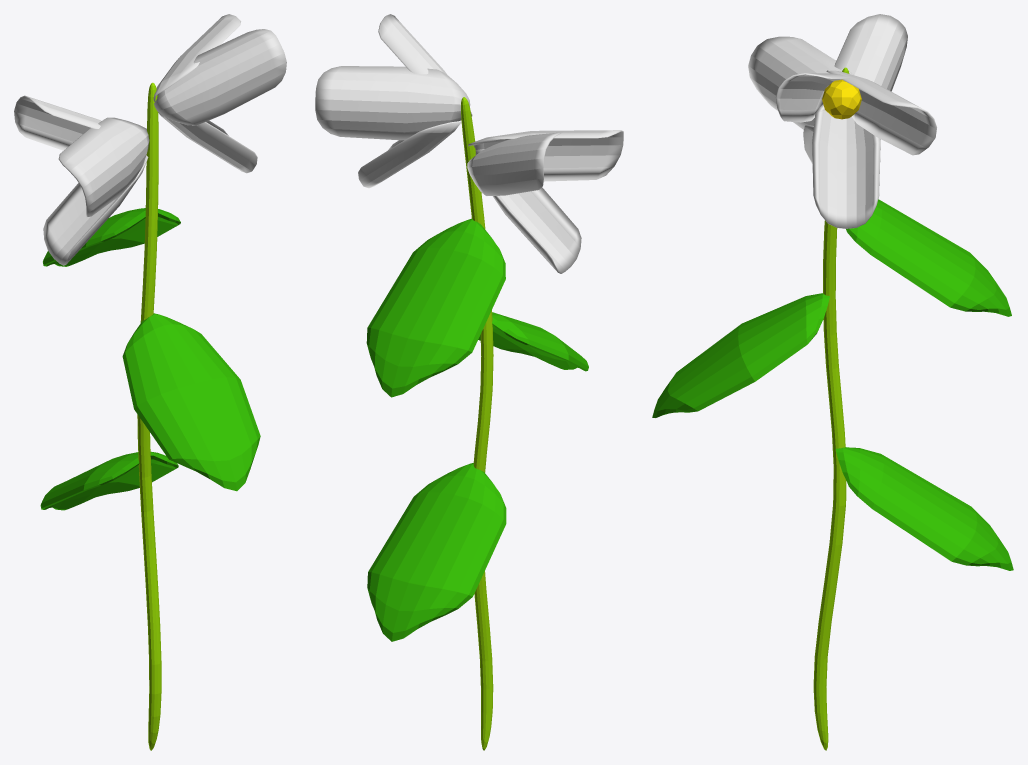
File: Lima fruiting larger.fbx
3 views of the same model, side by side, from view 1: azimuth 30°, elevation 25°; view 2: azimuth 150°, elevation 25°; view 3: azimuth 270°, elevation 25° (orthographic). The views are drawn at different scales.
Visible parts, largest first — view 1: Plane.008, Plane.004, Cylinder.001, Plane.002, Plane.006, Plane, Plane.001, Plane.009, Plane.003, Plane.005; view 2: Plane.009, Plane.006, Plane.005, Cylinder.001, Plane.002, Plane, Plane.001, Plane.008, Plane.003, Plane.004; view 3: Plane.006, Plane.008, Plane.009, Plane.003, Cylinder.001, Plane.005, Plane.001, Plane.002, Plane.004, Icosphere.001.
Boxes of the visible parts, left/top/right/bottom form: Plane.008: left=122, top=313, right=260, bottom=491; Plane.004: left=154, top=29, right=286, bottom=125; Cylinder.001: left=137, top=82, right=161, bottom=750; Plane.002: left=58, top=117, right=149, bottom=216; Plane.006: left=40, top=451, right=178, bottom=510; Plane: left=43, top=155, right=148, bottom=265; Plane.001: left=14, top=95, right=101, bottom=150; Plane.009: left=43, top=208, right=180, bottom=266; Plane.003: left=158, top=112, right=257, bottom=173; Plane.005: left=153, top=14, right=240, bottom=102; Plane.009: left=366, top=218, right=505, bottom=397; Plane.006: left=367, top=463, right=506, bottom=641; Plane.005: left=315, top=66, right=470, bottom=140; Cylinder.001: left=461, top=97, right=493, bottom=750; Plane.002: left=468, top=130, right=623, bottom=181; Plane: left=493, top=187, right=581, bottom=273; Plane.001: left=467, top=132, right=560, bottom=195; Plane.008: left=478, top=312, right=588, bottom=371; Plane.003: left=358, top=120, right=461, bottom=188; Plane.004: left=378, top=14, right=472, bottom=116; Plane.006: left=835, top=447, right=1013, bottom=570; Plane.008: left=652, top=293, right=829, bottom=417; Plane.009: left=846, top=199, right=1011, bottom=316; Plane.003: left=812, top=104, right=880, bottom=228; Cylinder.001: left=813, top=67, right=849, bottom=750; Plane.005: left=826, top=70, right=936, bottom=155; Plane.001: left=834, top=14, right=907, bottom=91; Plane.002: left=748, top=36, right=853, bottom=129; Plane.004: left=776, top=73, right=850, bottom=122; Icosphere.001: left=822, top=79, right=861, bottom=119.
Size of the model in its own units: 379 by 1087 by 486.
